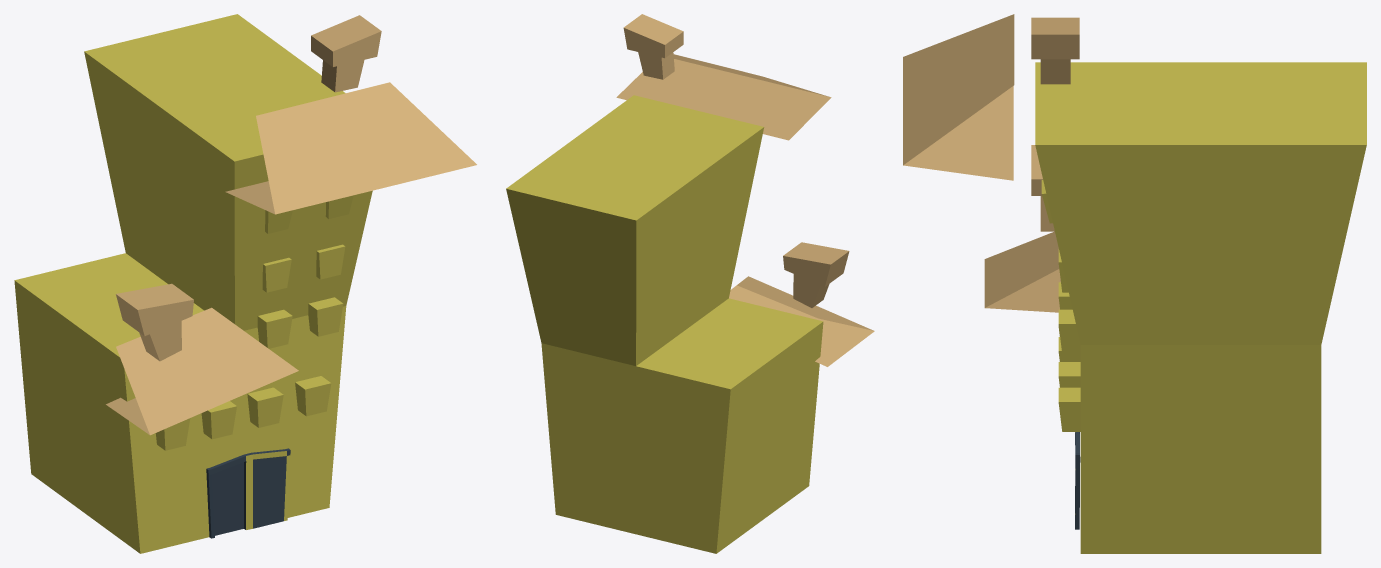
The model's file is prédio3 (1).fbx.
3 views of the same model, side by side, from view 1: azimuth 30°, elevation 25°; view 2: azimuth 150°, elevation 25°; view 3: azimuth 270°, elevation 25° (orthographic). The views are drawn at different scales.
Parts seen in each view (by area): view 1: Cube.007; view 2: Cube.007; view 3: Cube.007.
Part boxes in pixels (<box>): Cube.007: <box>14,14,476,553</box>; Cube.007: <box>506,14,874,553</box>; Cube.007: <box>903,14,1366,553</box>.
Bounding box in the file's own units: 236 × 376 × 295.
